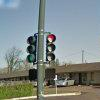Traffic light: (19, 21, 68, 66)
